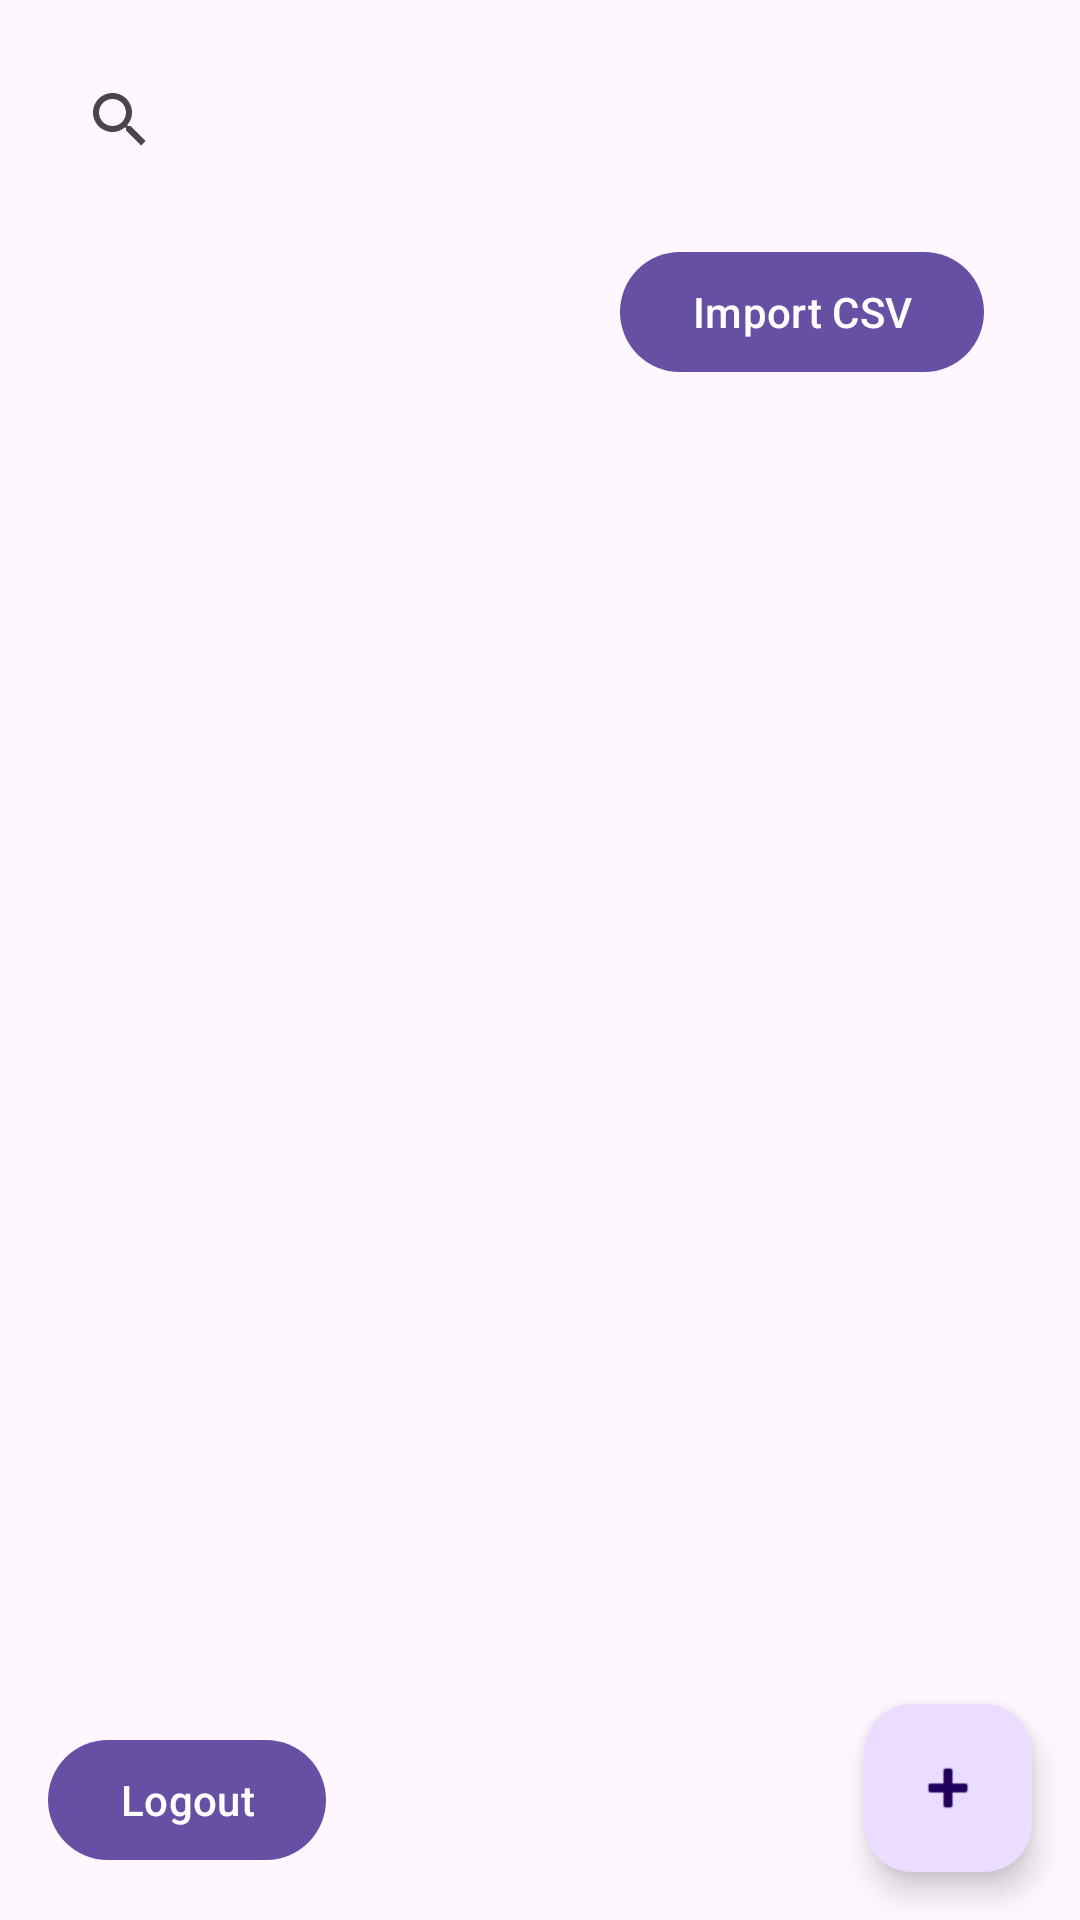

Screen size 1080px x 1920px. Icon name, then its box in pixels as bbox(x1, y1, x2, y2):
Add new chargepoint: bbox(864, 1704, 1032, 1872)
